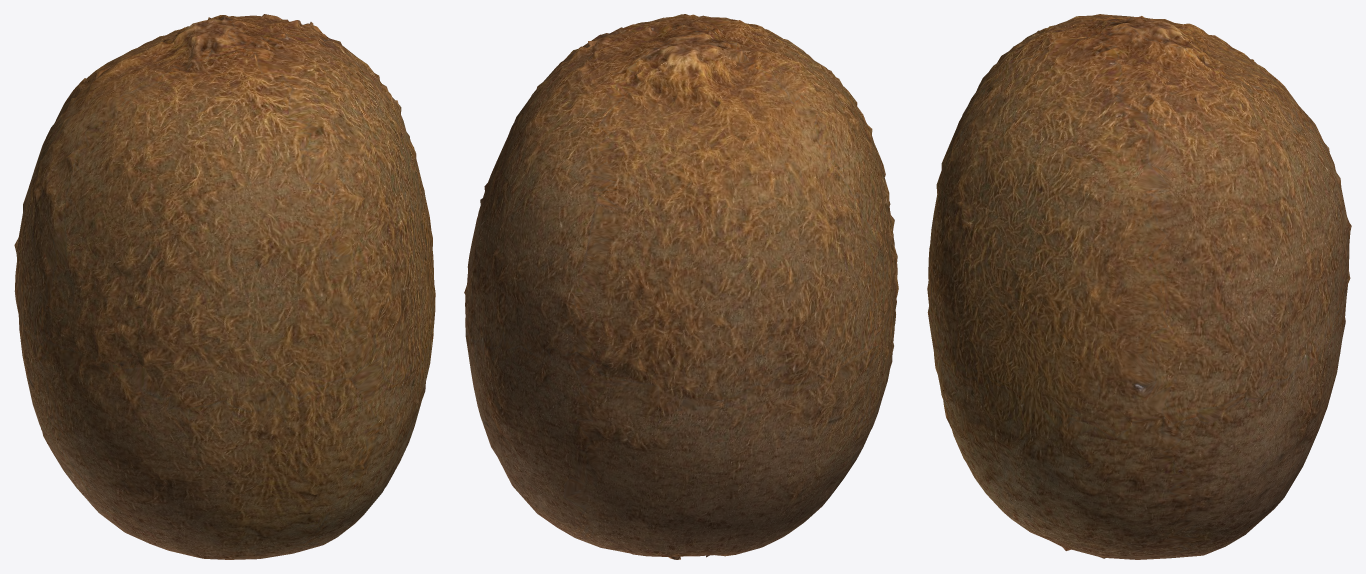
Rendered from whole.glb.
The picture shows the model from 3 angles, left to right: view 1: azimuth 30°, elevation 25°; view 2: azimuth 150°, elevation 25°; view 3: azimuth 270°, elevation 25°; orthographic projection.
Visible parts, largest first — view 1: food_kiwi_01; view 2: food_kiwi_01; view 3: food_kiwi_01.
Part boxes in pixels (x1,y1,x2,y2): food_kiwi_01: [14, 14, 435, 559]; food_kiwi_01: [464, 14, 898, 559]; food_kiwi_01: [927, 14, 1351, 559].
Size of the model in its own units: 1.54 by 2 by 1.52.
Materials: 1 (1 with a texture image).
